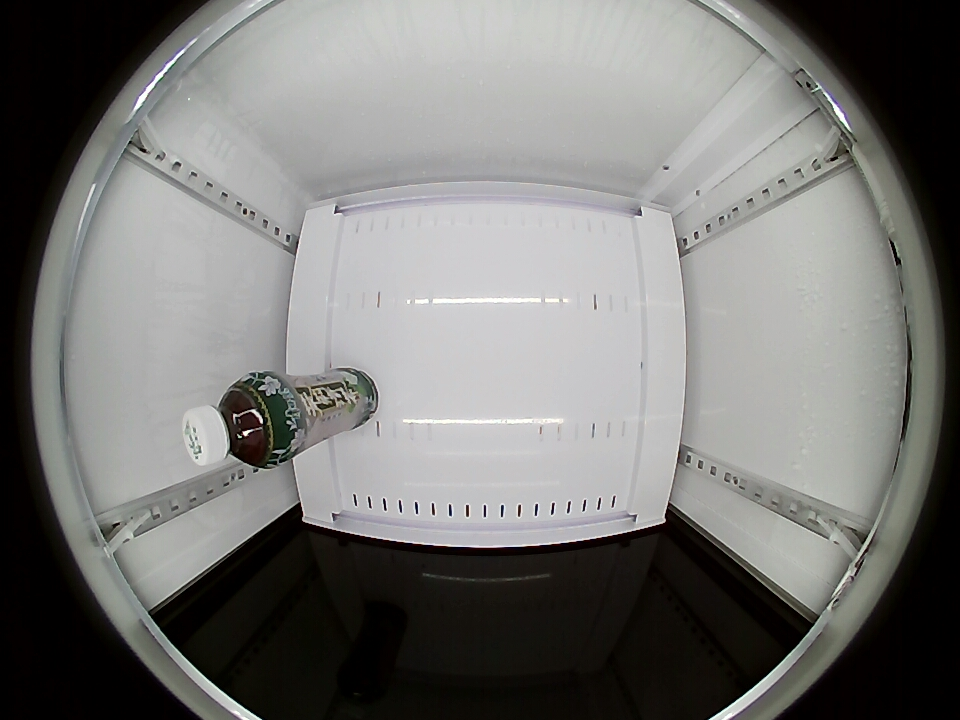moliqingcha: (182, 374, 291, 469)
